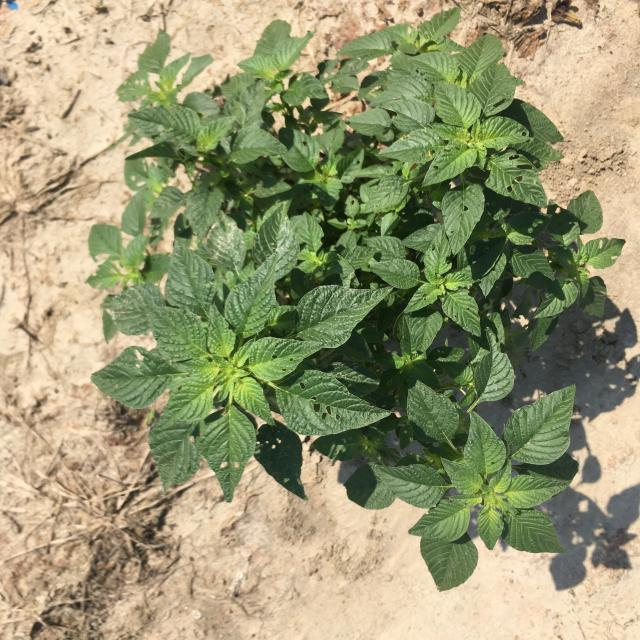PalmerAmaranth: (86, 8, 627, 591)
